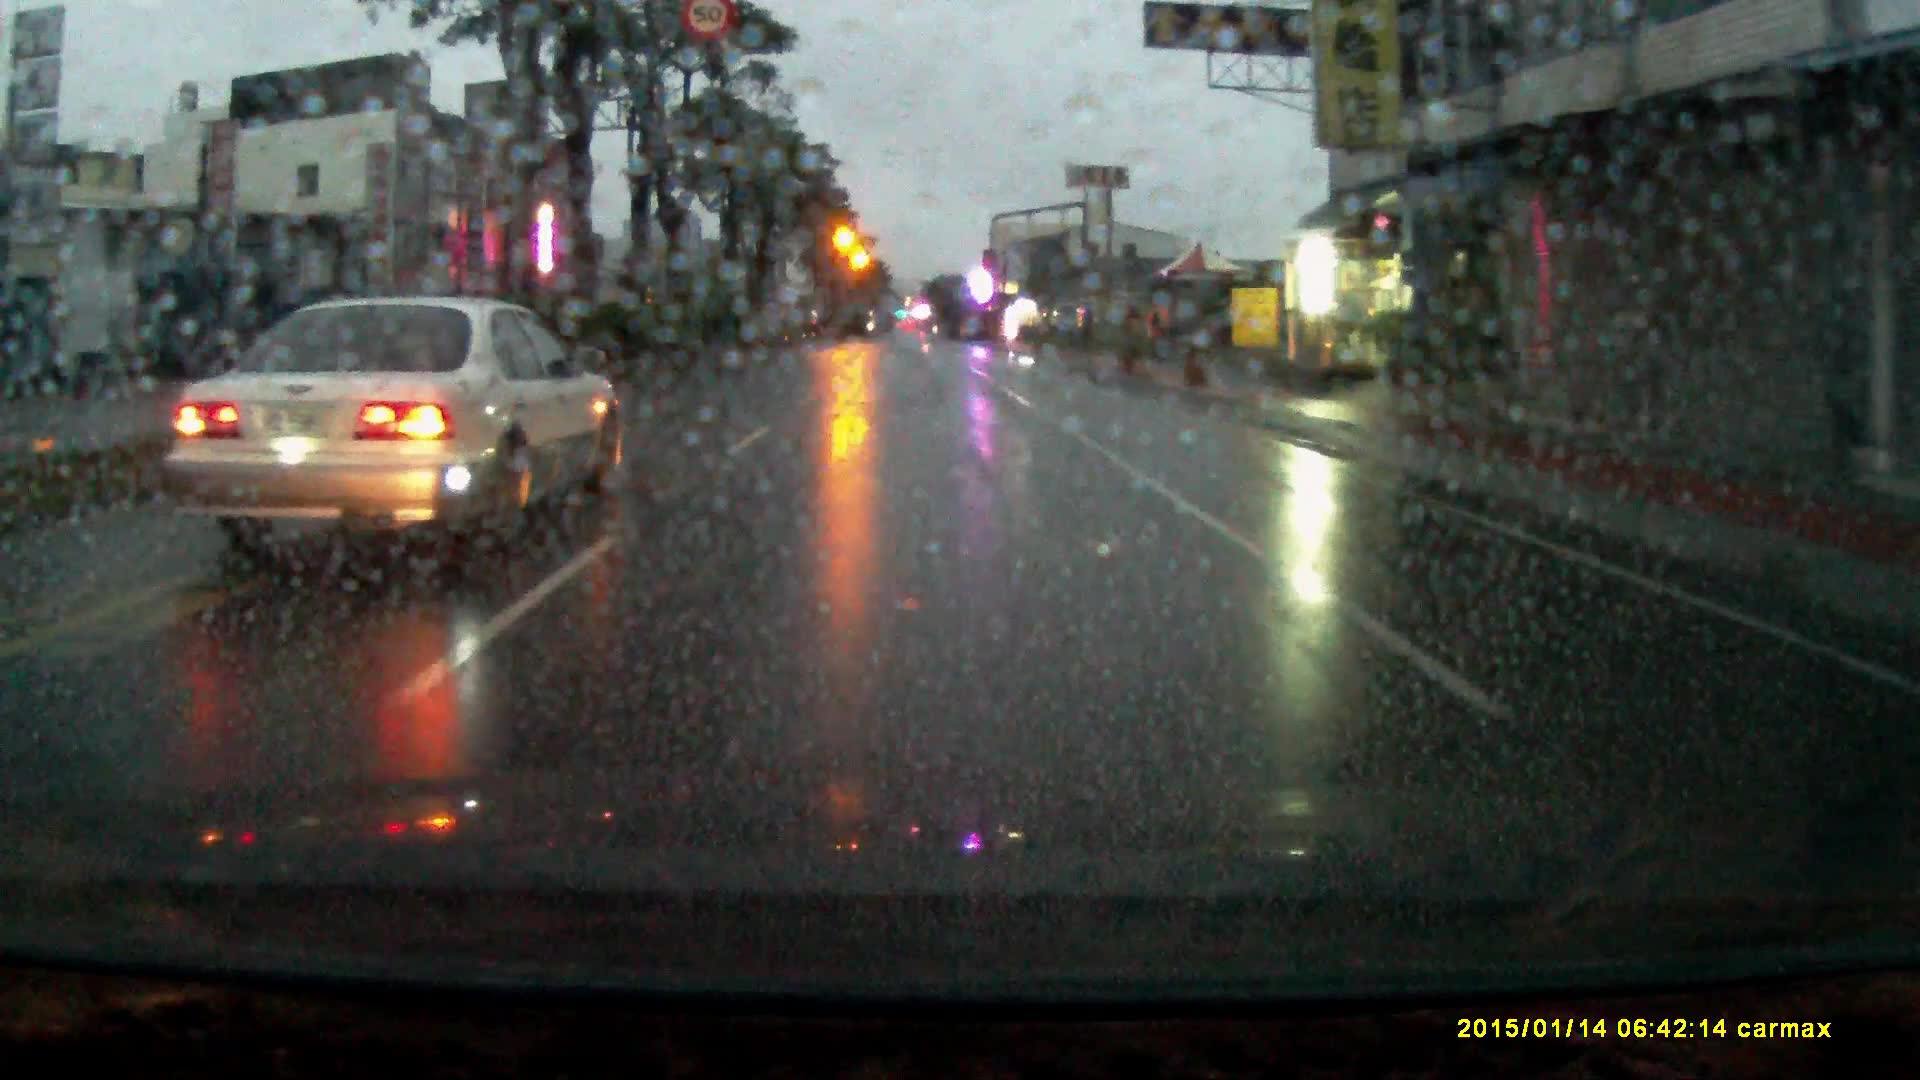vehicle: (165, 289, 628, 556)
